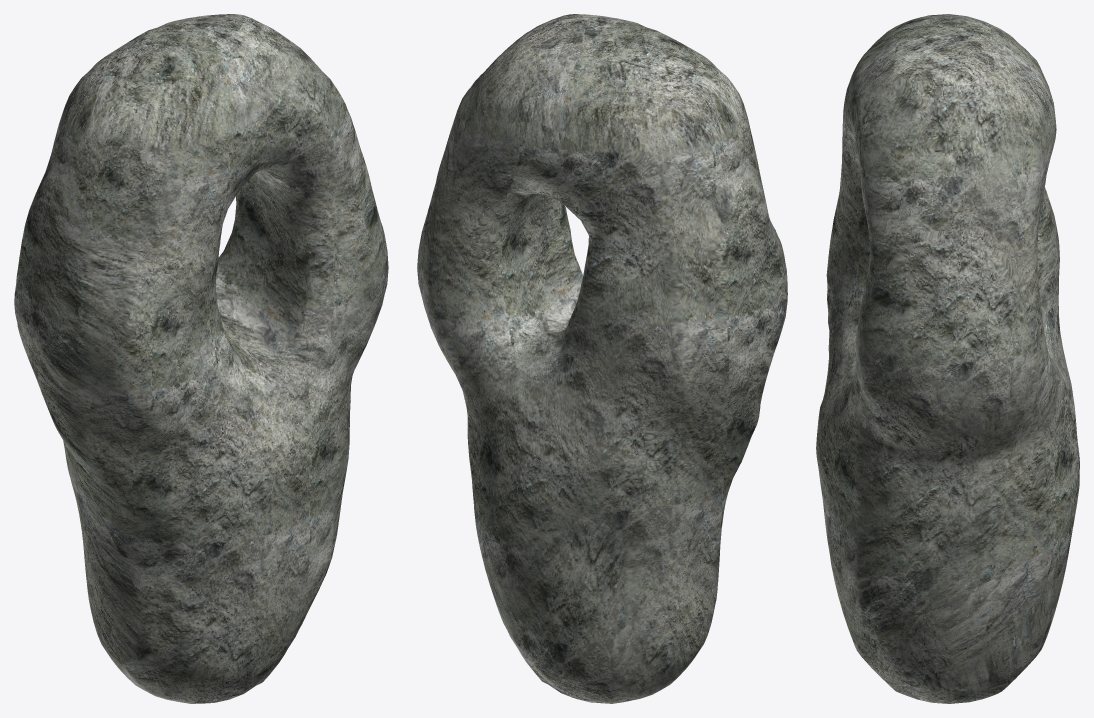
File: Rune.fbx
The picture shows the model from 3 angles, left to right: view 1: azimuth 30°, elevation 25°; view 2: azimuth 150°, elevation 25°; view 3: azimuth 270°, elevation 25°; orthographic projection.
Parts seen in each view (by area): view 1: Mball.005; view 2: Mball.005; view 3: Mball.005.
Part boxes in pixels (box(x1,y1,x2,y2)): Mball.005: box(14, 14, 388, 703); Mball.005: box(417, 14, 787, 703); Mball.005: box(816, 14, 1079, 703).
Size of the model in its own units: 426 by 807 by 292.
